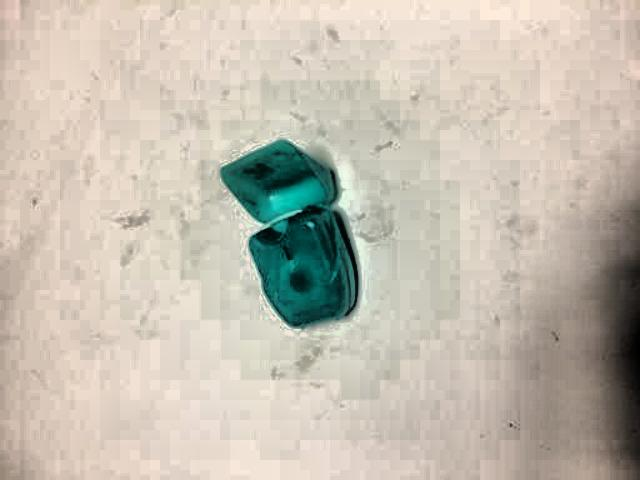Plastic: (207, 114, 375, 342)
